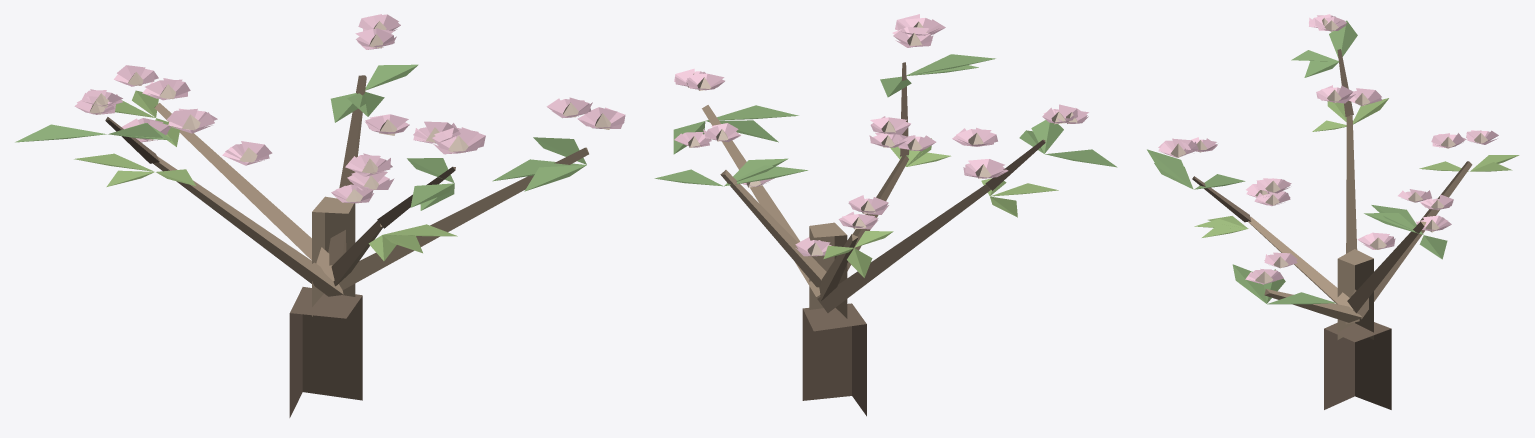
Rendered from hua.mei__spring.glb.
3 renders of one model, left to right at view 1: azimuth 30°, elevation 25°; view 2: azimuth 150°, elevation 25°; view 3: azimuth 270°, elevation 25°, orthographic. The views are drawn at different scales.
Parts seen in each view (by area): view 1: hua.mei__spring; view 2: hua.mei__spring; view 3: hua.mei__spring.
Boxes of the visible parts, bbox=[...] form: hua.mei__spring: bbox=[15, 14, 625, 417]; hua.mei__spring: bbox=[654, 14, 1117, 416]; hua.mei__spring: bbox=[1147, 14, 1519, 409].
Bounding box in the file's own units: 3.66 × 2.42 × 2.74.
